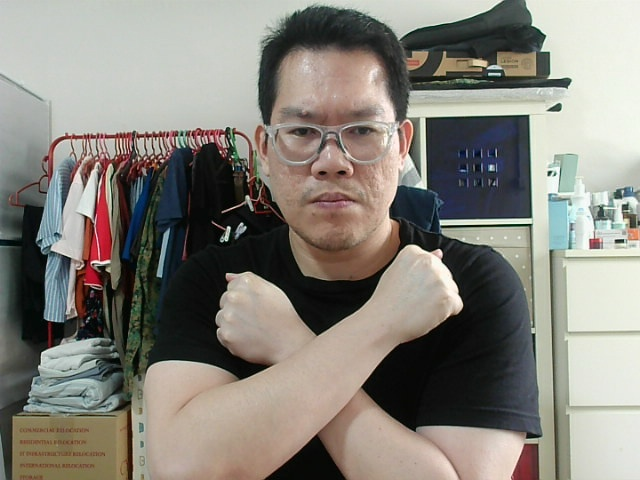love: (387, 255, 459, 314)
